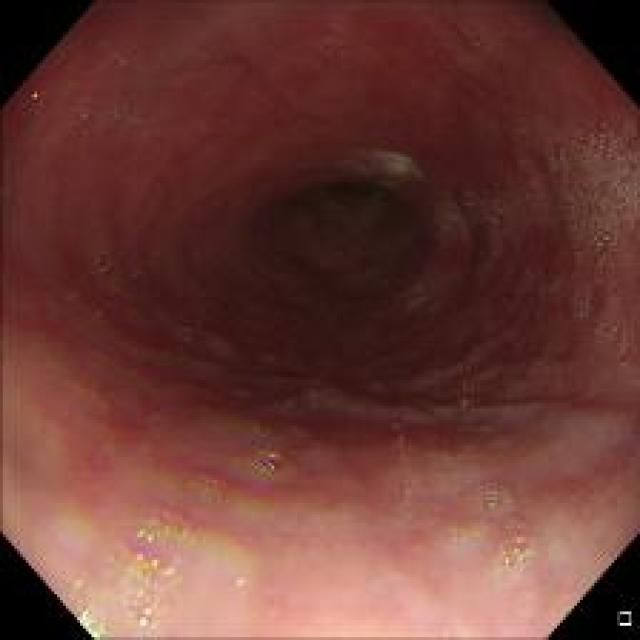bubbles: (532, 122, 632, 355), (440, 182, 559, 278), (450, 512, 545, 610), (245, 439, 296, 482), (459, 22, 495, 61), (124, 600, 159, 634), (318, 38, 350, 59), (106, 44, 130, 68), (398, 485, 412, 515), (436, 74, 455, 94), (74, 102, 92, 119), (106, 104, 124, 119), (196, 120, 214, 134)
color misalignment: (66, 504, 192, 632), (509, 530, 534, 569), (266, 445, 281, 471), (29, 88, 48, 105), (100, 259, 114, 275), (134, 269, 146, 280)
contrast: (134, 114, 528, 388)
